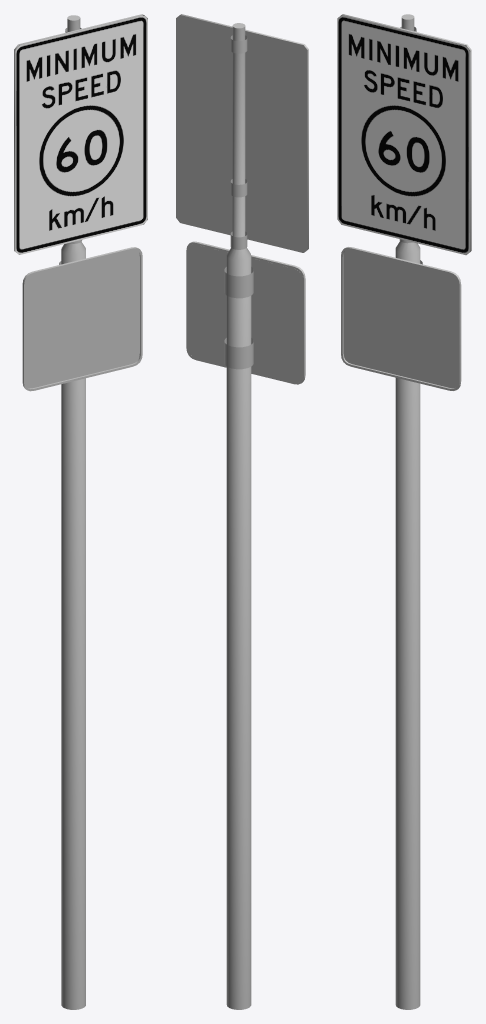
Rendered from SM_warning_sign_08.fbx.
The picture shows the model from 3 angles, left to right: view 1: azimuth 30°, elevation 25°; view 2: azimuth 150°, elevation 25°; view 3: azimuth 330°, elevation 25°; orthographic projection.
Visible parts, largest first — view 1: warning_sign_08; view 2: warning_sign_08; view 3: warning_sign_08.
Boxes of the visible parts, x1,y1,x2,y2 form: warning_sign_08: (14, 14, 147, 1009); warning_sign_08: (176, 14, 308, 1009); warning_sign_08: (337, 14, 471, 1009).
Bounding box in the file's own units: 48.49 × 345 × 10.25.
